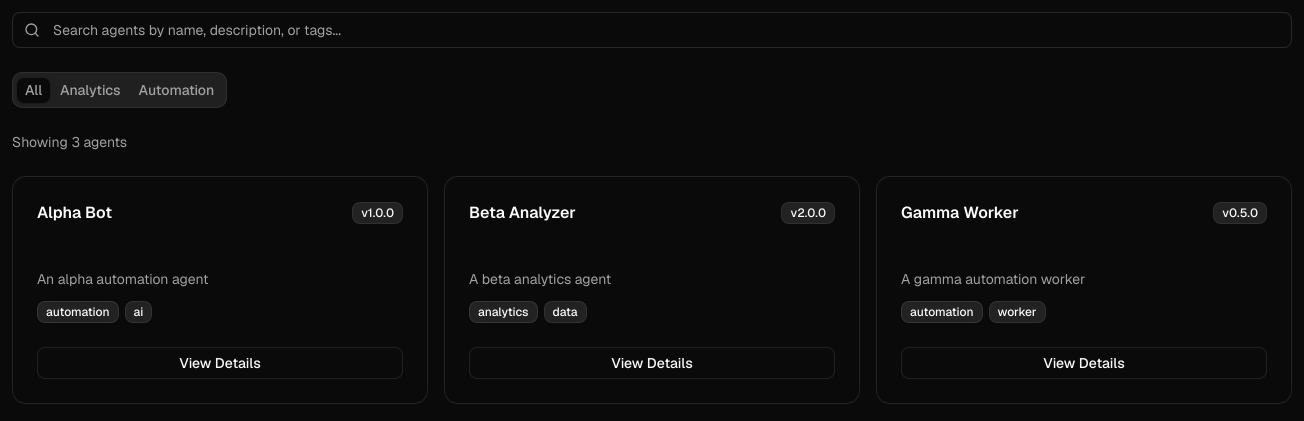
RegistryContent › shows all agents when 'All' tab is selected
The image size is (1304, 421).
Click the tab "automation" at (176, 90), box top-left (130, 76), bottom-right (223, 104)
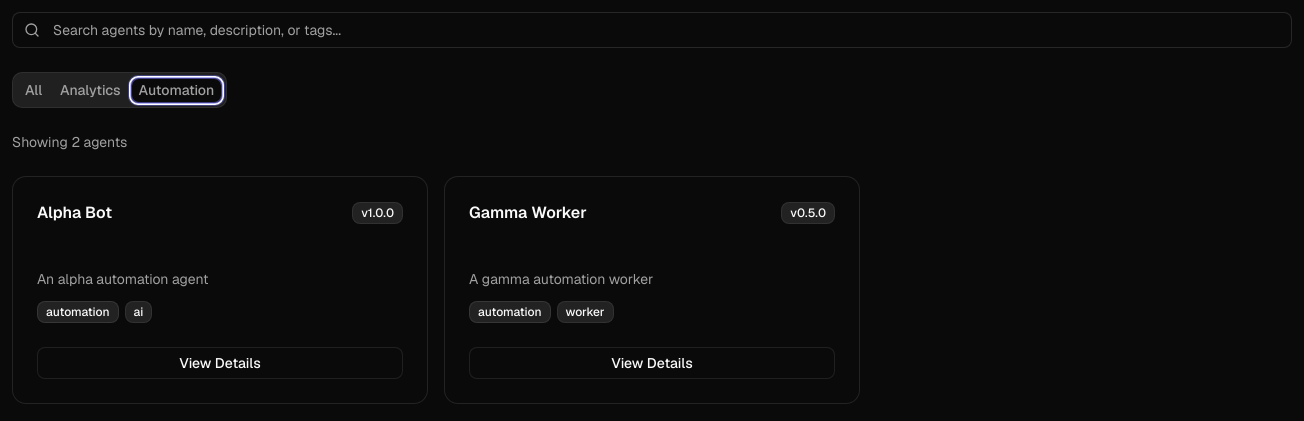
Click the tab "All" at (34, 90), box top-left (16, 76), bottom-right (51, 104)
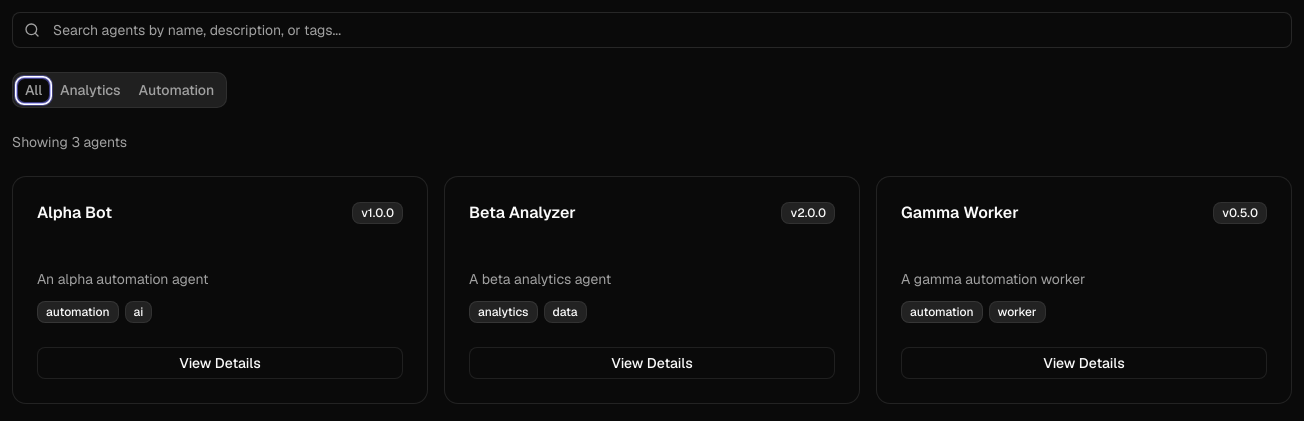
Check: the text "Showing 3 agents" is shown, box top-left (12, 133), bottom-right (127, 151)
